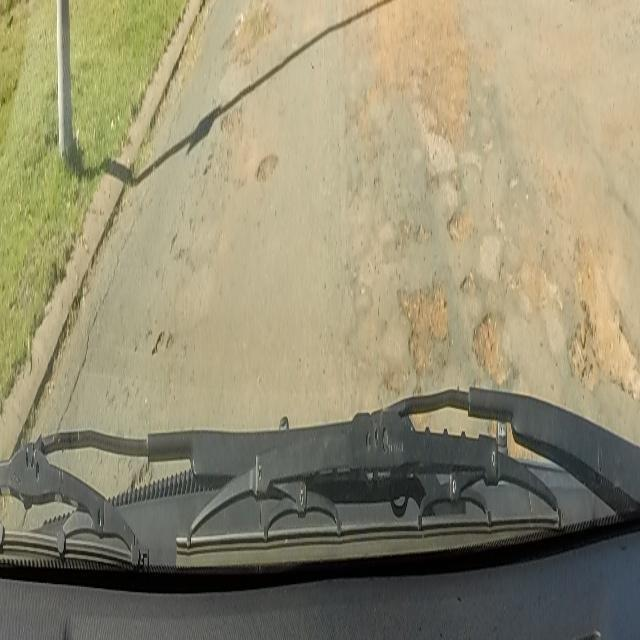pothole: (394, 274, 451, 401), (590, 228, 624, 404), (470, 297, 516, 385), (224, 5, 281, 72), (446, 199, 474, 247), (256, 144, 280, 180)
